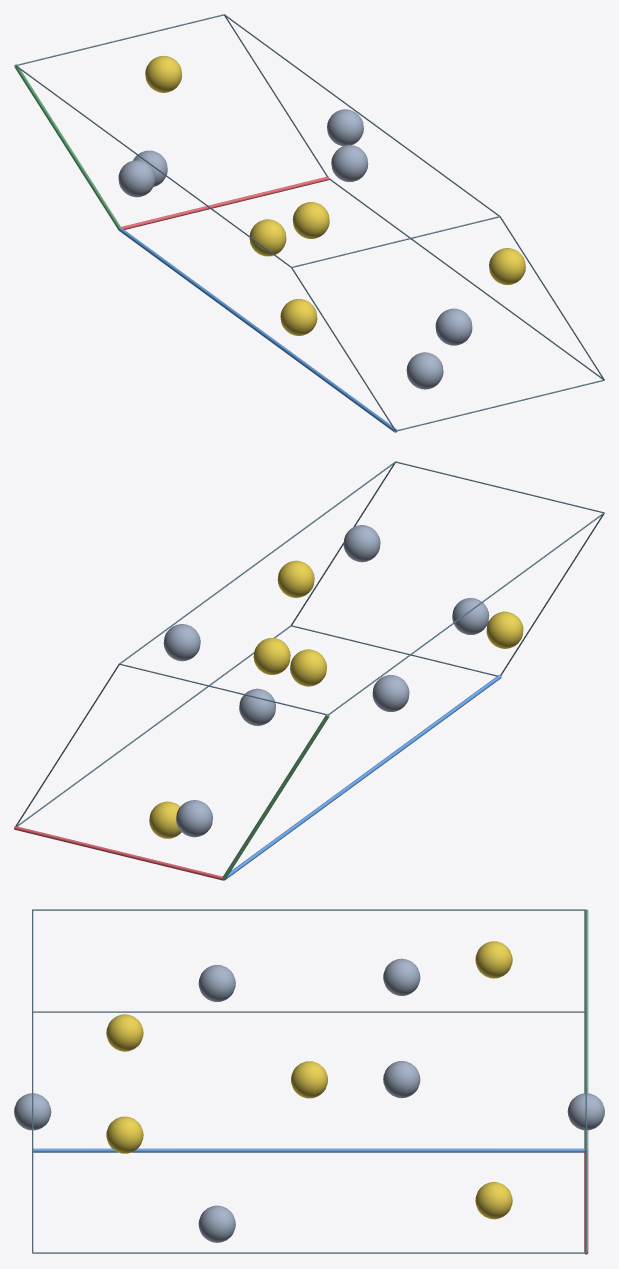
File: cinnabar.glb
The picture shows the model from 3 angles, top to bottom: view 1: azimuth 30°, elevation 25°; view 2: azimuth 150°, elevation 25°; view 3: azimuth 270°, elevation 25°; orthographic projection.
Parts seen in each view (by area): view 1: Ô mạng và các trục a, b, c, Hg · Hg · 1 (×6), S · S · 1 (×5); view 2: Ô mạng và các trục a, b, c, Hg · Hg · 1 (×6), S · S · 1 (×5); view 3: Ô mạng và các trục a, b, c, Hg · Hg · 1 (×6), S · S · 1 (×5).
Boxes of the visible parts, x1=… form: Ô mạng và các trục a, b, c: x1=14, y1=14, x2=604, y2=432; Hg · Hg · 1 (×6): x1=118, y1=109, x2=472, y2=389; S · S · 1 (×5): x1=145, y1=55, x2=525, y2=335; Ô mạng và các trục a, b, c: x1=14, y1=461, x2=604, y2=880; Hg · Hg · 1 (×6): x1=163, y1=525, x2=489, y2=837; S · S · 1 (×5): x1=149, y1=560, x2=523, y2=838; Ô mạng và các trục a, b, c: x1=32, y1=909, x2=588, y2=1254; Hg · Hg · 1 (×6): x1=14, y1=958, x2=604, y2=1242; S · S · 1 (×5): x1=106, y1=941, x2=512, y2=1219.
Size of the model in its own units: 6.26 by 4.23 by 10.14.
